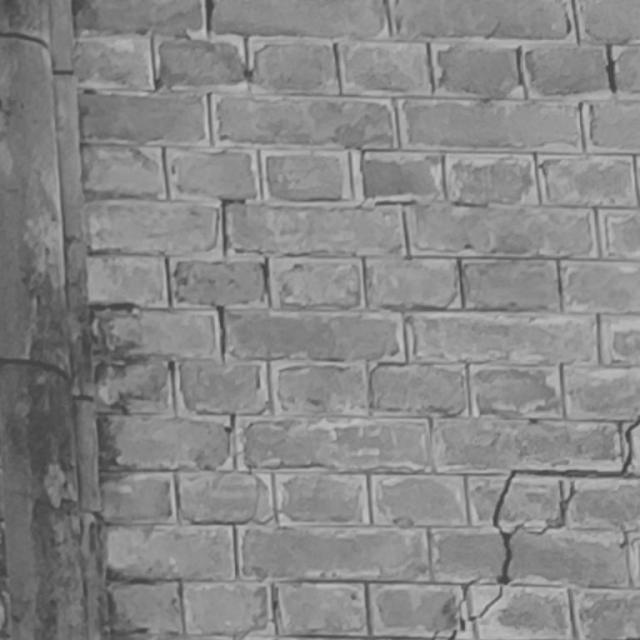crack: (435, 416, 639, 640)
